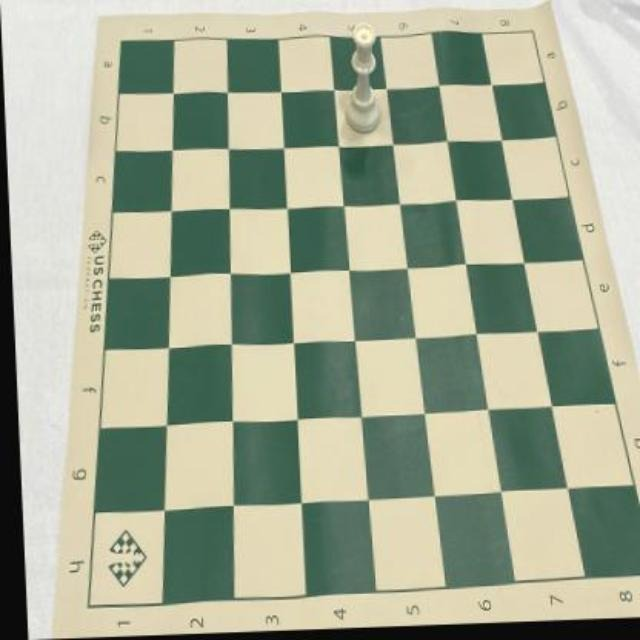white-queen: (340, 24, 381, 137)
